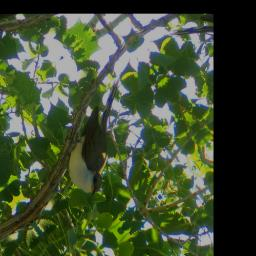Cuckoo: (42, 76, 164, 203)
